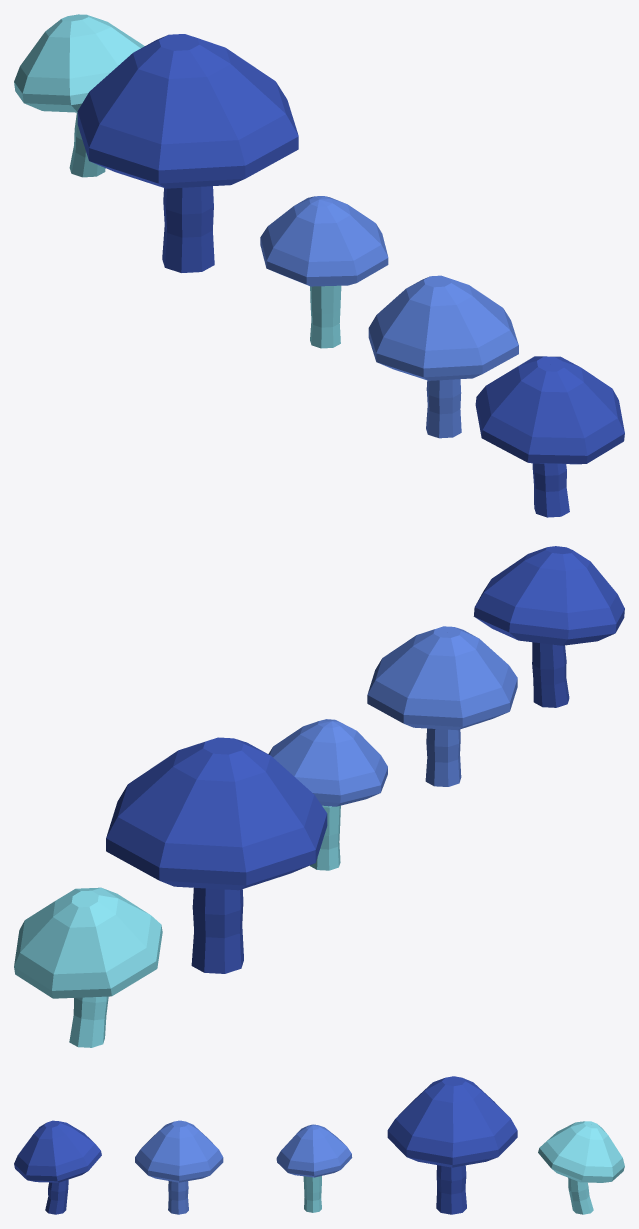
File: Mushroom.fbx
3 views of the same model, one above another, from view 1: azimuth 30°, elevation 25°; view 2: azimuth 150°, elevation 25°; view 3: azimuth 270°, elevation 25° (orthographic). The views are drawn at different scales.
Parts seen in each view (by area): view 1: Cube.001, Cube.004, Cube.002, Cube, Cube.003; view 2: Cube.001, Cube.003, Cube.002, Cube.004, Cube; view 3: Cube.001, Cube.004, Cube.002, Cube.003, Cube.
Boxes of the visible parts, x1,y1,x2,y2 form: Cube.001: (77,34,298,272); Cube.004: (475,356,624,517); Cube.002: (368,275,518,438); Cube: (260,196,388,348); Cube.003: (14,14,144,177); Cube.001: (106,737,327,973); Cube.003: (14,887,162,1047); Cube.002: (367,626,517,786); Cube.004: (473,546,624,707); Cube: (268,719,387,870); Cube.001: (387,1076,517,1214); Cube.004: (14,1120,101,1214); Cube.002: (135,1120,223,1214); Cube.003: (538,1121,624,1214); Cube: (276,1124,352,1212).
Bounding box in the file's own units: 2539 × 2692 × 11930.
